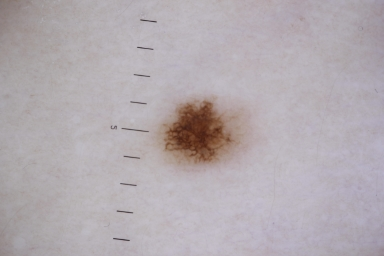nevus: (164, 99, 232, 160)
